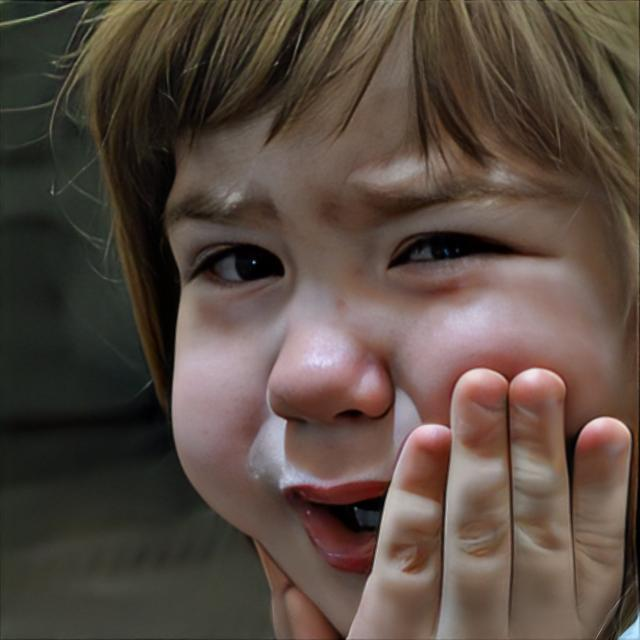sad: (160, 9, 640, 639)
